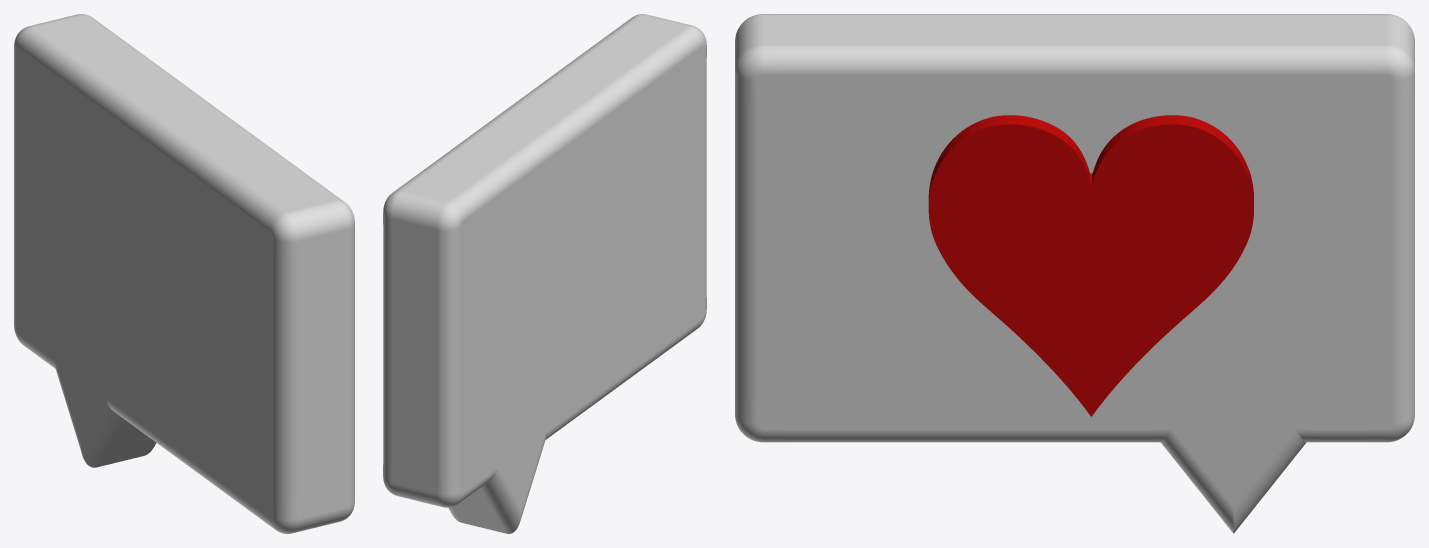
3 renders of one model, left to right at view 1: azimuth 30°, elevation 25°; view 2: azimuth 150°, elevation 25°; view 3: azimuth 270°, elevation 25°, orthographic. The views are drawn at different scales.
Parts seen in each view (by area): view 1: Object_2; view 2: Object_2; view 3: Object_2, Layer 01.
Boxes of the visible parts, x1=… form: Object_2: x1=14, y1=14, x2=354, y2=533; Object_2: x1=383, y1=14, x2=706, y2=533; Object_2: x1=735, y1=14, x2=1414, y2=533; Layer 01: x1=928, y1=115, x2=1253, y2=416.
Bounding box in the file's own units: 314 × 1580 × 1251.
